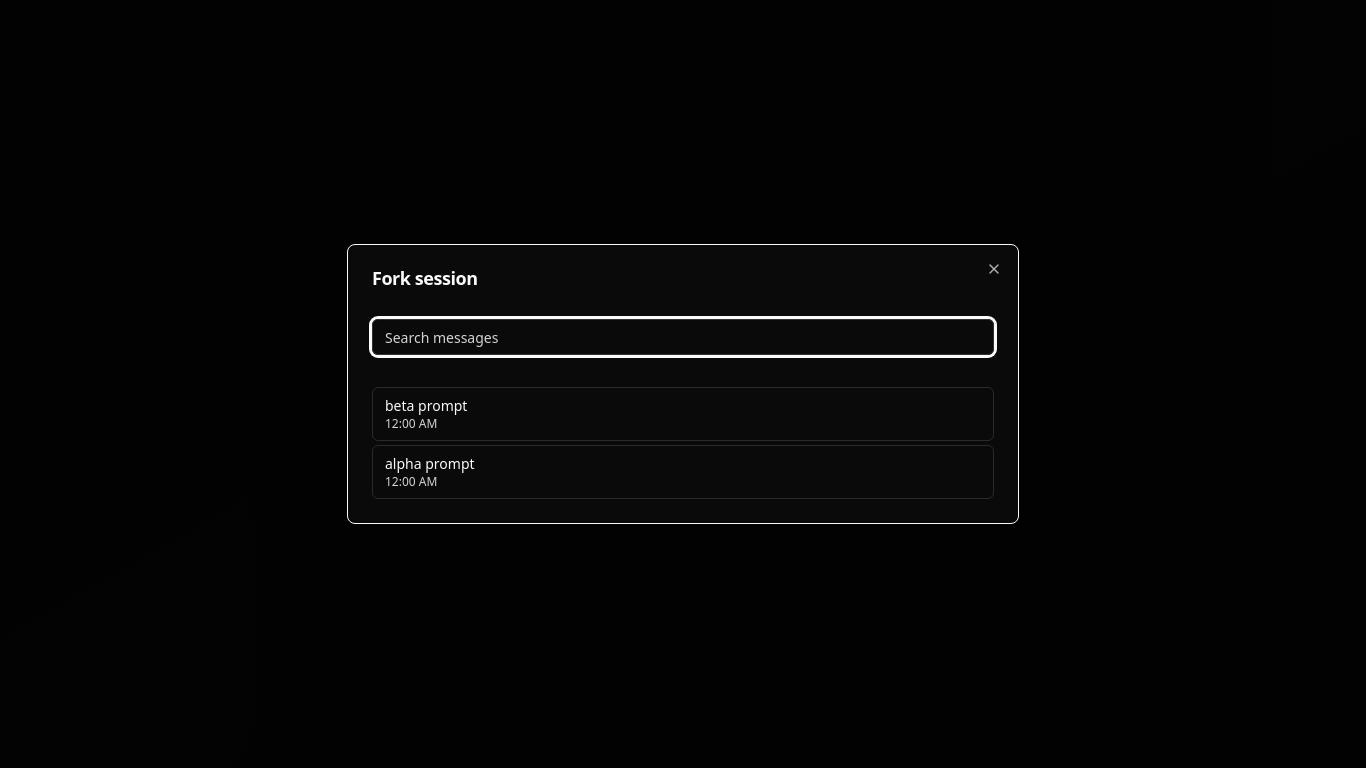
Scenario: SessionMessagePickerDialog › narrows the rows with the search query
Expected: the text "alpha prompt" is shown, [385,454,475,473]
Expected: the text "beta prompt" is shown, [385,396,467,415]
Type "beta" into the field with placeholder "Search messages".
click(683, 337); type("beta")  # box [372,319,994,355]
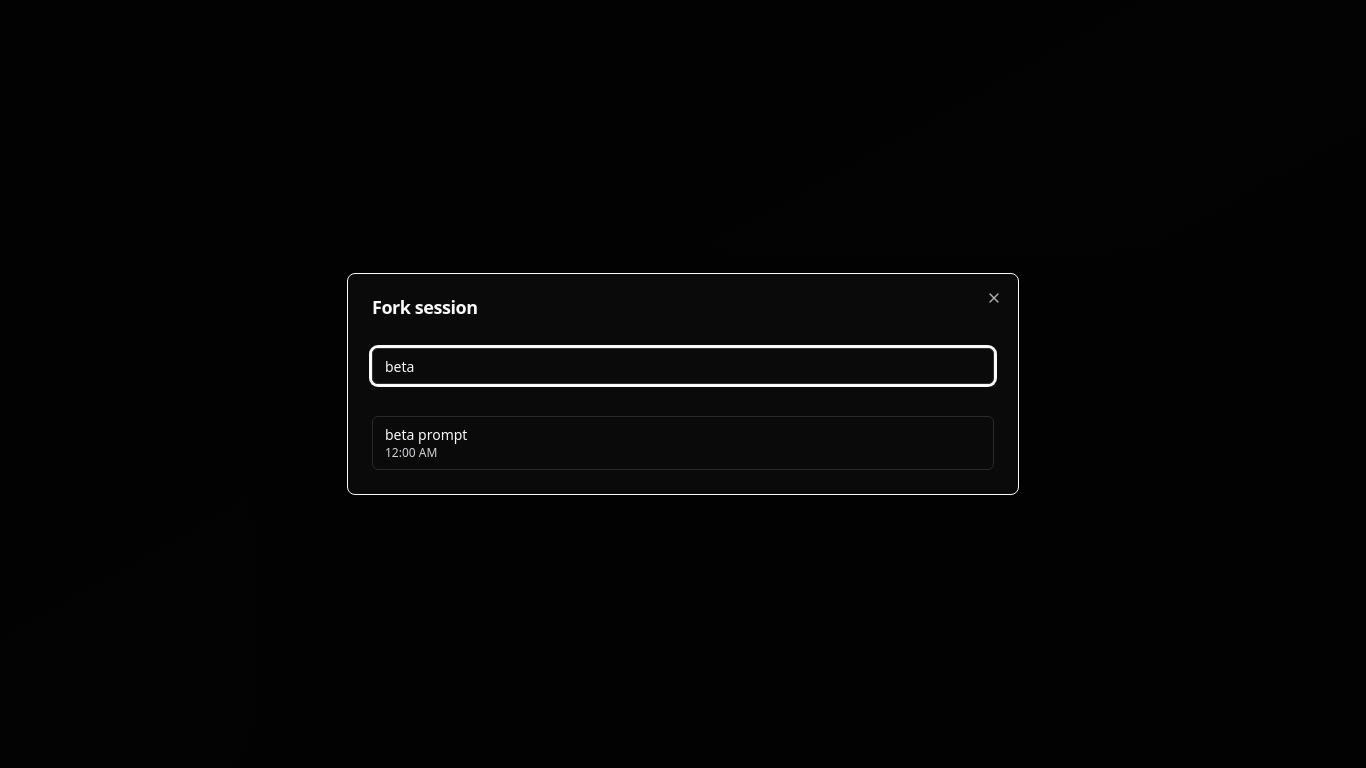
Expected: the text "beta prompt" is shown, [385,425,467,444]
Result: the button "alpha prompt" is gone
